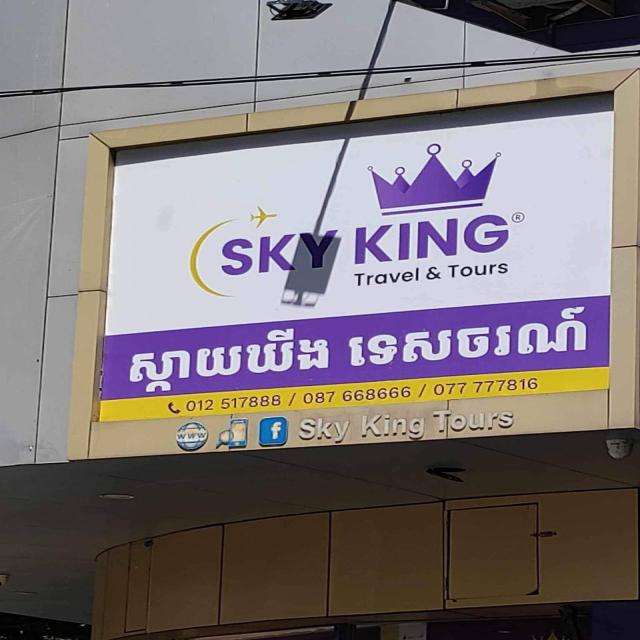Yolov11kh: (121, 298, 593, 396), (180, 376, 544, 415)
